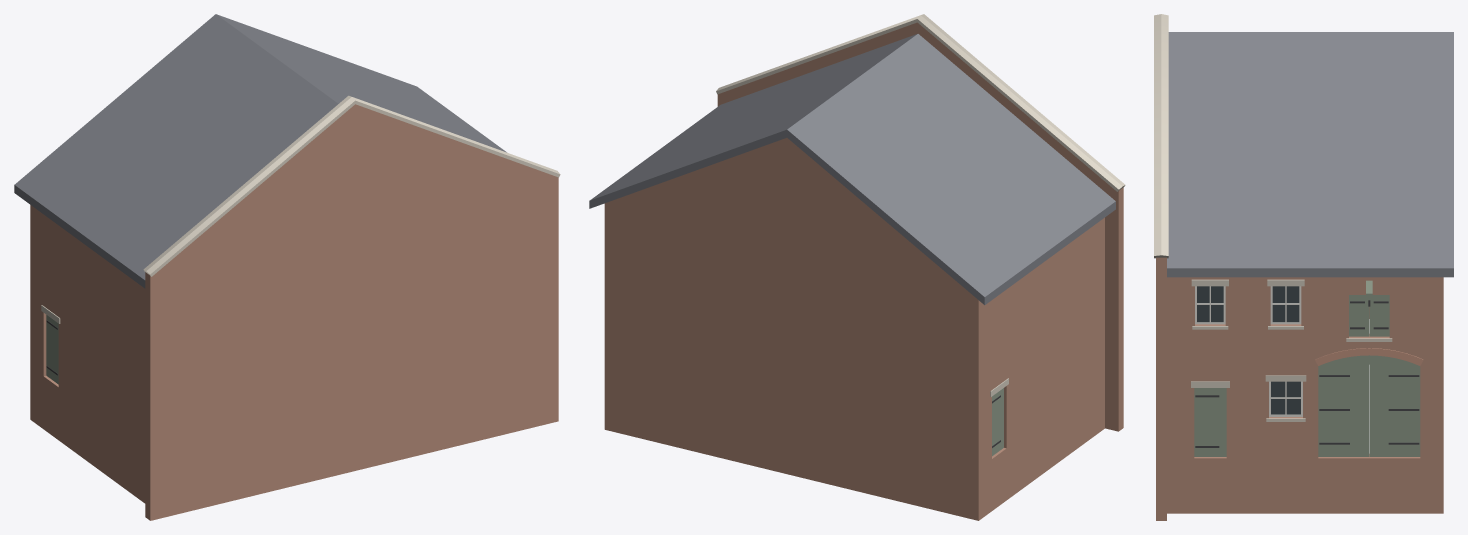
File: mayer_house_2009_prairie_coach_house__as_standing_1904.glb
The picture shows the model from 3 angles, left to right: view 1: azimuth 30°, elevation 25°; view 2: azimuth 150°, elevation 25°; view 3: azimuth 270°, elevation 25°; orthographic projection. The views are drawn at different scales.
Parts seen in each view (by area): view 1: mayer_house_2009_prairie_coach_house__as_standing_1904; view 2: mayer_house_2009_prairie_coach_house__as_standing_1904; view 3: mayer_house_2009_prairie_coach_house__as_standing_1904.
Boxes of the visible parts, <box> form: mayer_house_2009_prairie_coach_house__as_standing_1904: <box>14,14,560,520</box>; mayer_house_2009_prairie_coach_house__as_standing_1904: <box>589,14,1125,520</box>; mayer_house_2009_prairie_coach_house__as_standing_1904: <box>1154,14,1453,520</box>.
Size of the model in its own units: 15.35 by 12.99 by 8.82.
